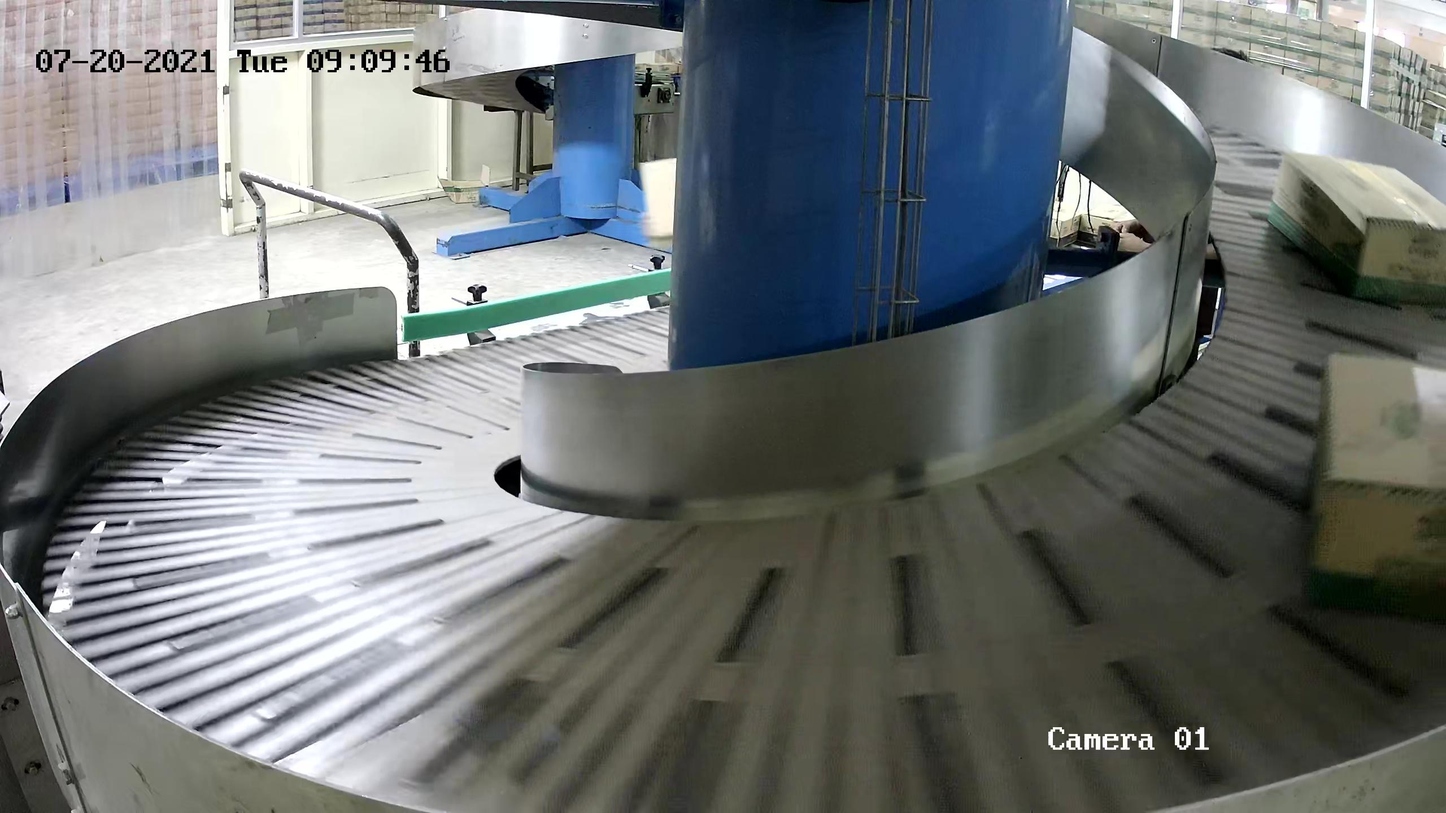Box: (1303, 347, 1446, 605), (1265, 145, 1446, 313)
